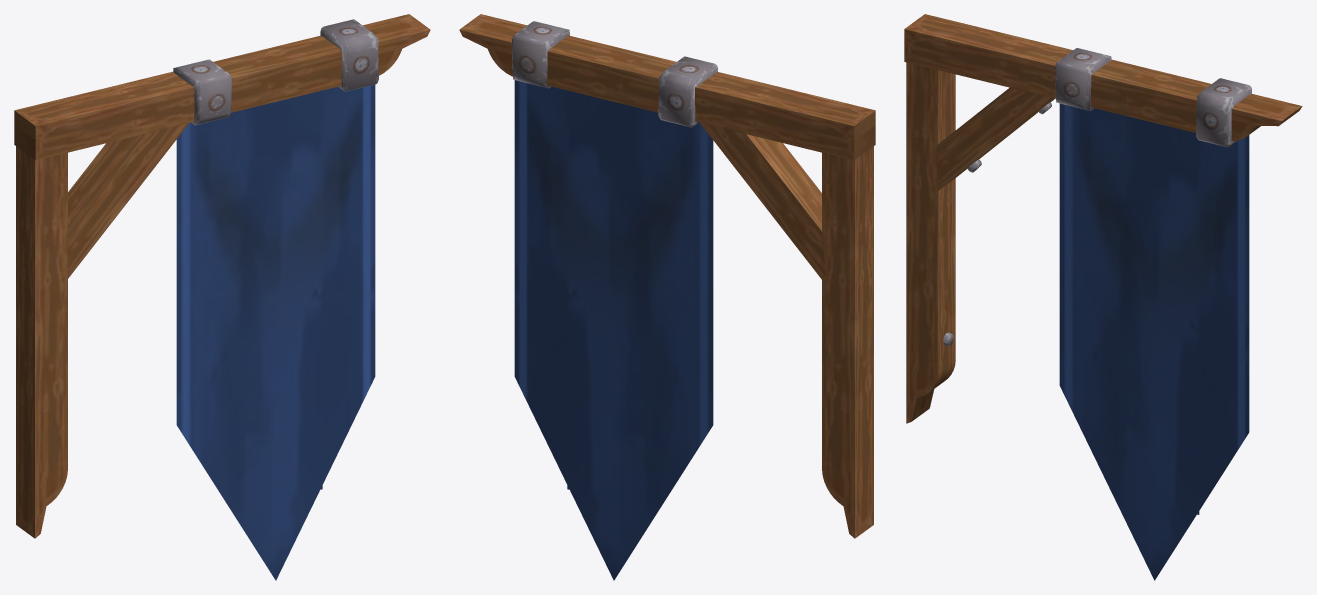
Rendered from banner_2.d69d8ca0.glb.
The picture shows the model from 3 angles, left to right: view 1: azimuth 30°, elevation 25°; view 2: azimuth 150°, elevation 25°; view 3: azimuth 330°, elevation 25°; orthographic projection. The views are drawn at different scales.
Parts seen in each view (by area): view 1: Banner_2; view 2: Banner_2; view 3: Banner_2.
Boxes of the visible parts, <box> form: Banner_2: <box>14,14,430,580</box>; Banner_2: <box>459,14,875,580</box>; Banner_2: <box>904,14,1302,580</box>.
Size of the model in its own units: 1.61 by 2.08 by 0.1906.
Materials: 3 (3 with a texture image).
